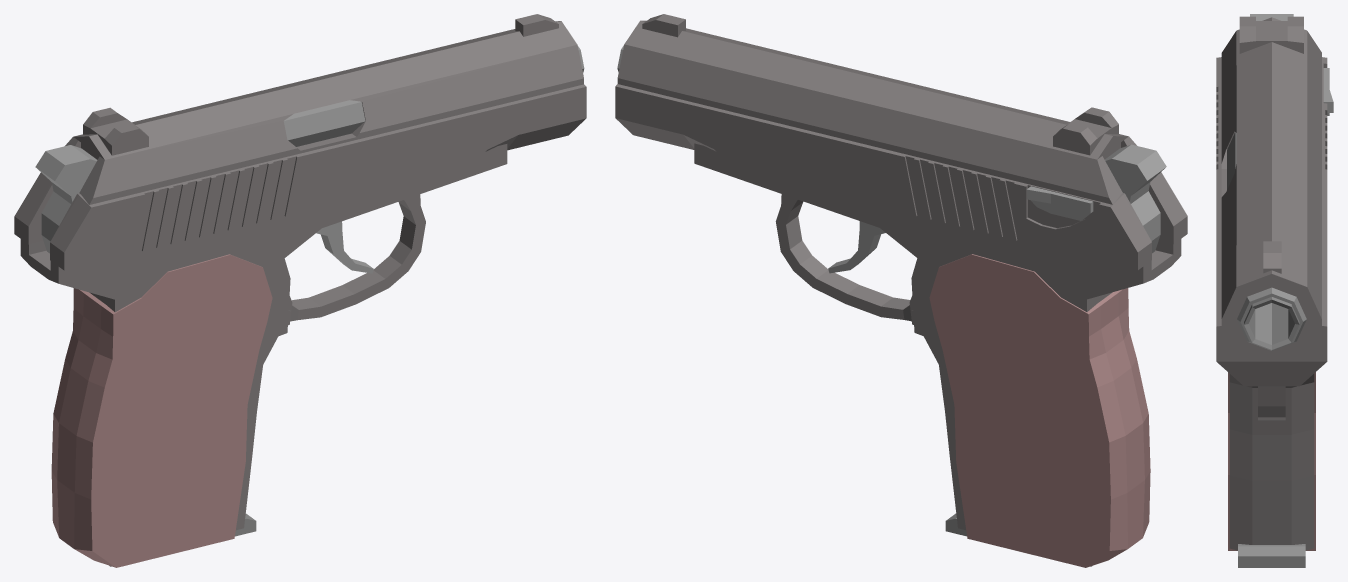
3 renders of one model, left to right at view 1: azimuth 30°, elevation 25°; view 2: azimuth 150°, elevation 25°; view 3: azimuth 270°, elevation 25°, orthographic. The views are drawn at different scales.
Visible parts, largest first — view 1: Cube.001, Cylinder.001, Cube.006, Cylinder.003, Cube.004; view 2: Cube.001, Cylinder.001, Cube.006, Cube.005, Cube.004; view 3: Cylinder.001, Cube.001, Cube.002, Cylinder.003, Cube.005, Cube.006.
Part boxes in pixels (bbox=[...]): Cube.001: bbox=[20, 144, 507, 567]; Cylinder.001: bbox=[14, 14, 586, 270]; Cube.006: bbox=[35, 145, 97, 253]; Cylinder.003: bbox=[283, 100, 365, 146]; Cube.004: bbox=[316, 221, 373, 273]; Cube.001: bbox=[694, 143, 1181, 567]; Cylinder.001: bbox=[615, 14, 1187, 270]; Cube.006: bbox=[1105, 144, 1166, 253]; Cube.005: bbox=[1026, 186, 1093, 220]; Cube.004: bbox=[828, 221, 885, 273]; Cylinder.001: bbox=[1216, 16, 1327, 386]; Cube.001: bbox=[1228, 372, 1315, 550]; Cube.002: bbox=[1238, 544, 1305, 567]; Cylinder.003: bbox=[1227, 132, 1236, 189]; Cube.005: bbox=[1323, 68, 1333, 115]; Cube.006: bbox=[1250, 14, 1293, 20].
Size of the model in its own units: 251 by 194 by 43.02.
